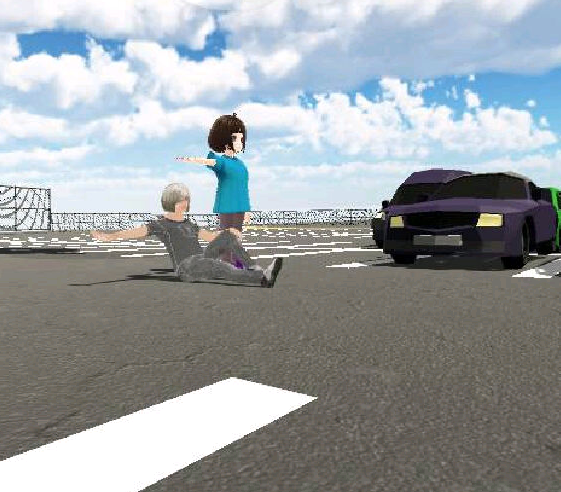doubleP_left: (93, 110, 287, 286)
